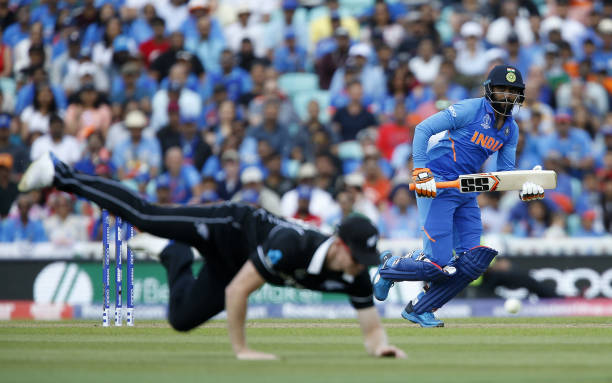bottom left: (543, 164, 559, 178)
bottom right: (549, 181, 564, 194)
top left: (453, 170, 470, 183)
top right: (453, 186, 472, 201)
